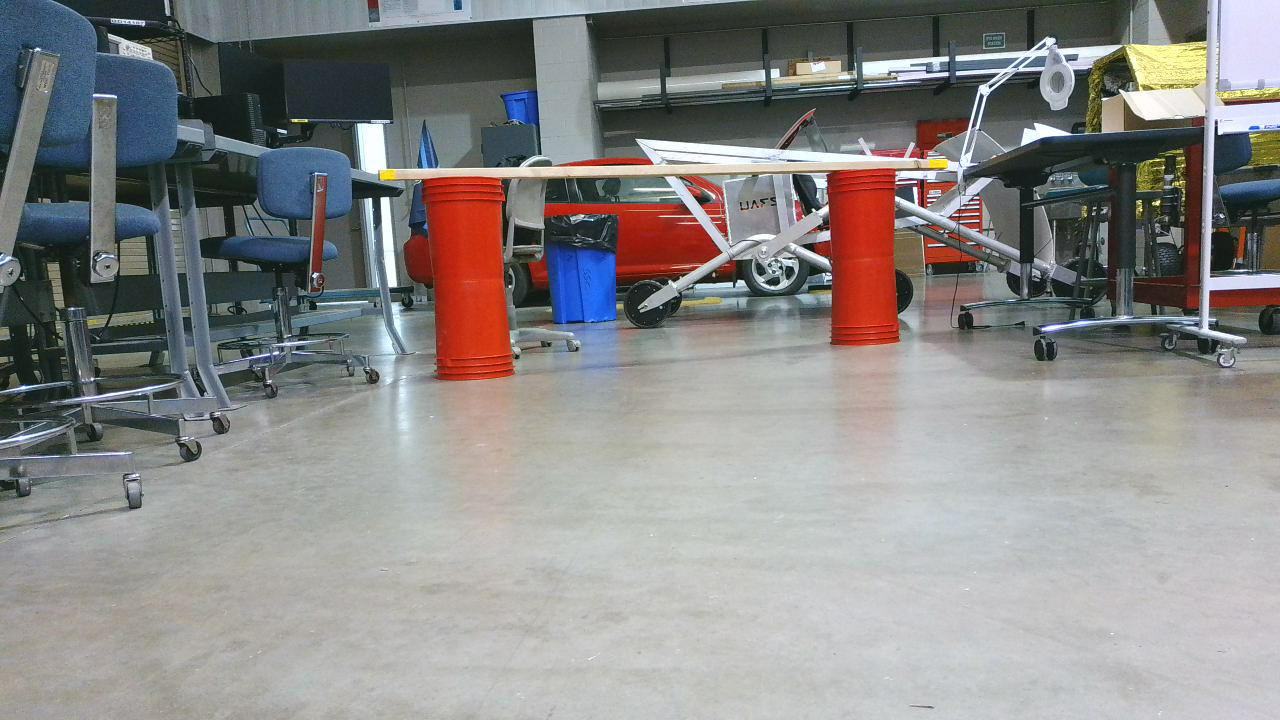red_bucket_arch: (432, 162, 907, 390)
